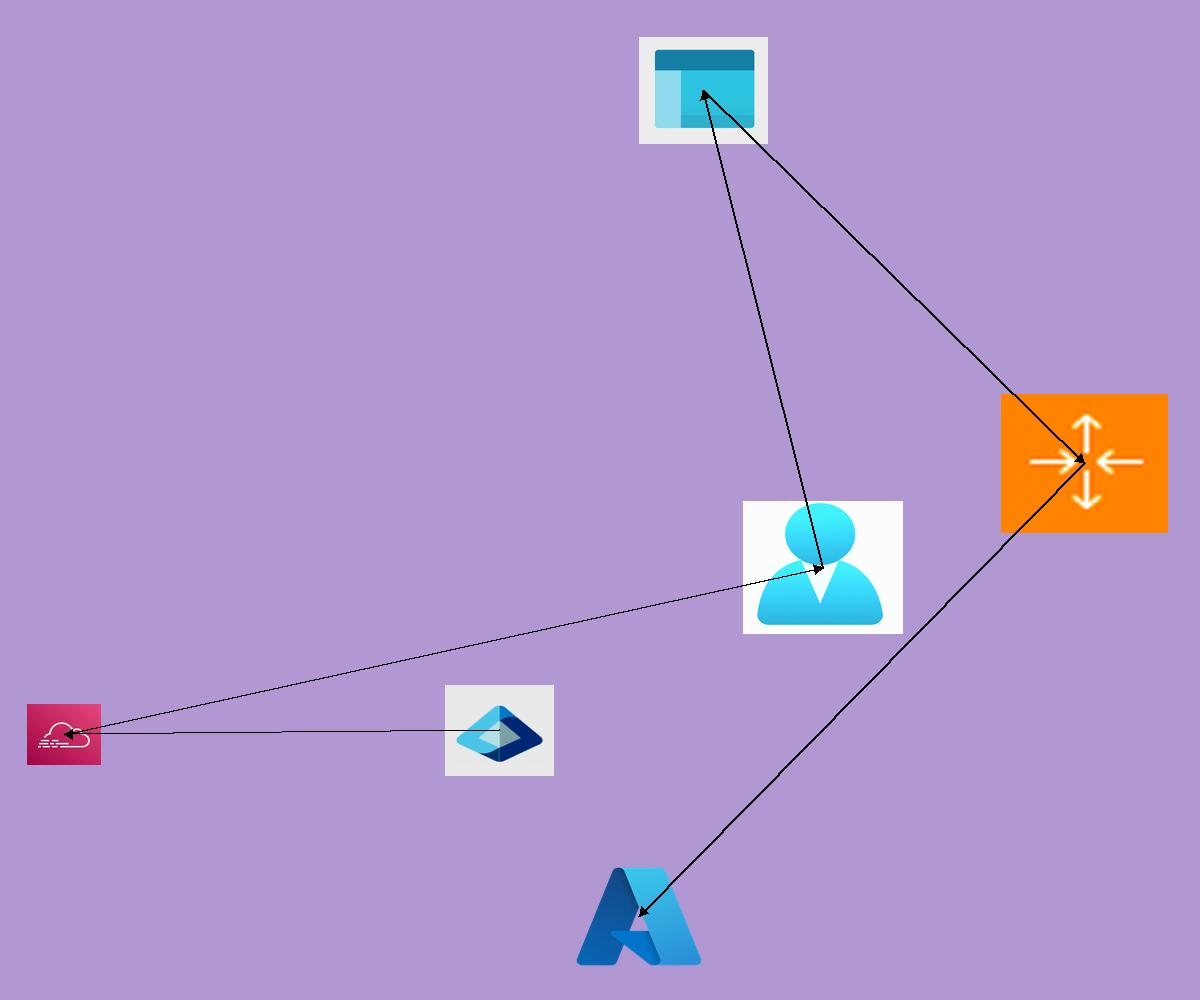AWS-CloudTrail: (27, 704, 101, 765)
AWS-Scaling-group: (1001, 394, 1168, 533)
Azure_management-portal: (639, 37, 768, 144)
Azure_microsoft_entra: (445, 685, 554, 776)
Azure_services: (571, 860, 707, 973)
Azure_users: (743, 501, 903, 634)
